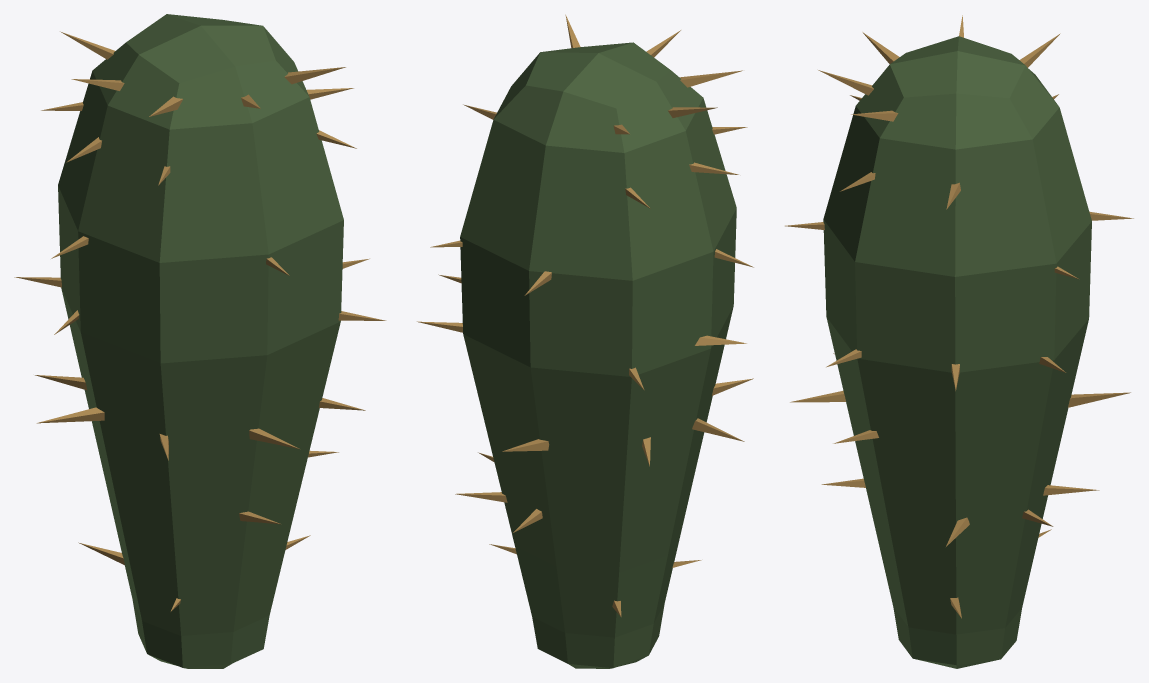
Rendered from Cactus_3.gltf.
The picture shows the model from 3 angles, left to right: view 1: azimuth 30°, elevation 25°; view 2: azimuth 150°, elevation 25°; view 3: azimuth 270°, elevation 25°; orthographic projection. The views are drawn at different scales.
Visible parts, largest first — view 1: Cactus_3; view 2: Cactus_3; view 3: Cactus_3.
Part boxes in pixels (x1,y1,x2,y2): Cactus_3: (14,14,386,668); Cactus_3: (417,14,753,668); Cactus_3: (785,15,1133,668).
Size of the model in its own units: 0.3937 by 0.7217 by 0.382.
